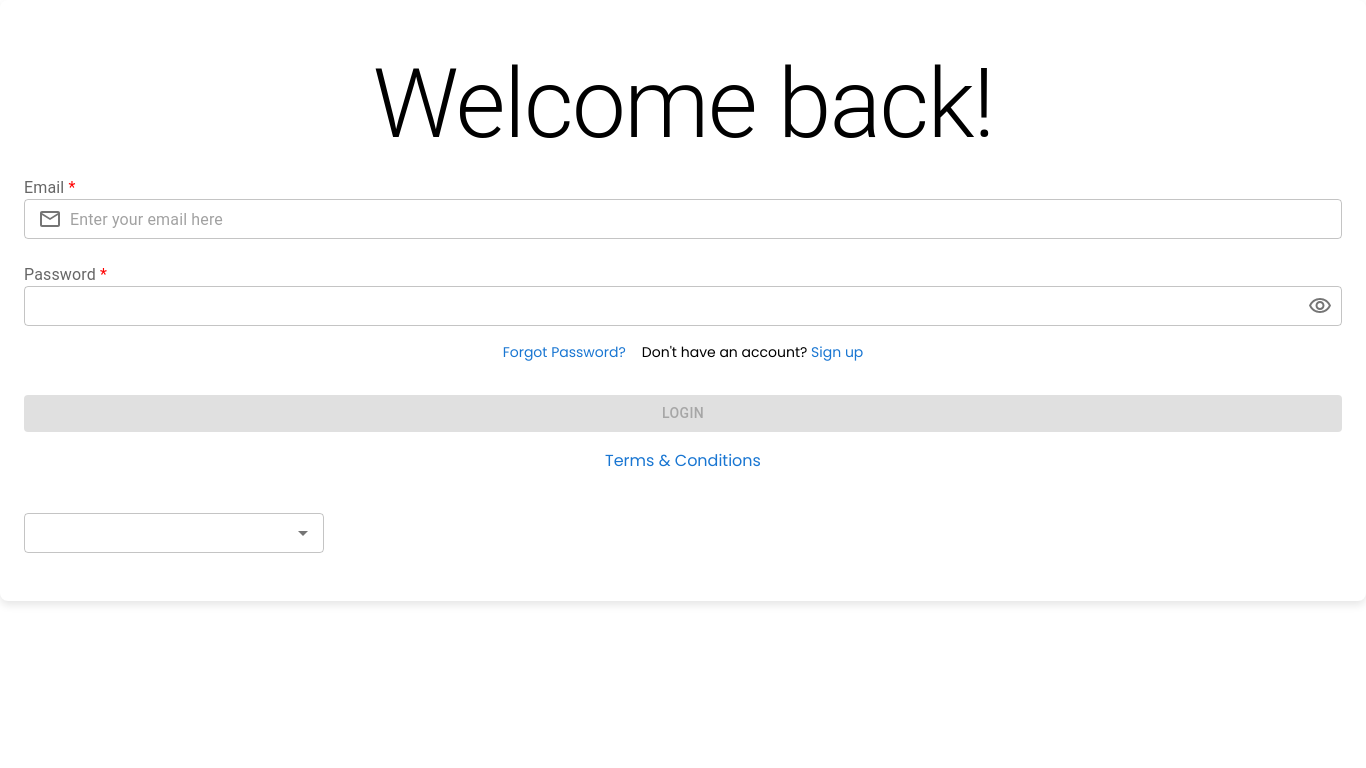
Test case: Login Component › enables login button when email and password are provided
The width and height of the screenshot is (1366, 768).
Expected: the button "Login" is disabled, [24,395,1342,432]
Type "test" into the field with placeholder "Enter your email here".
click(706, 219); type("test")  # box [70,199,1342,239]
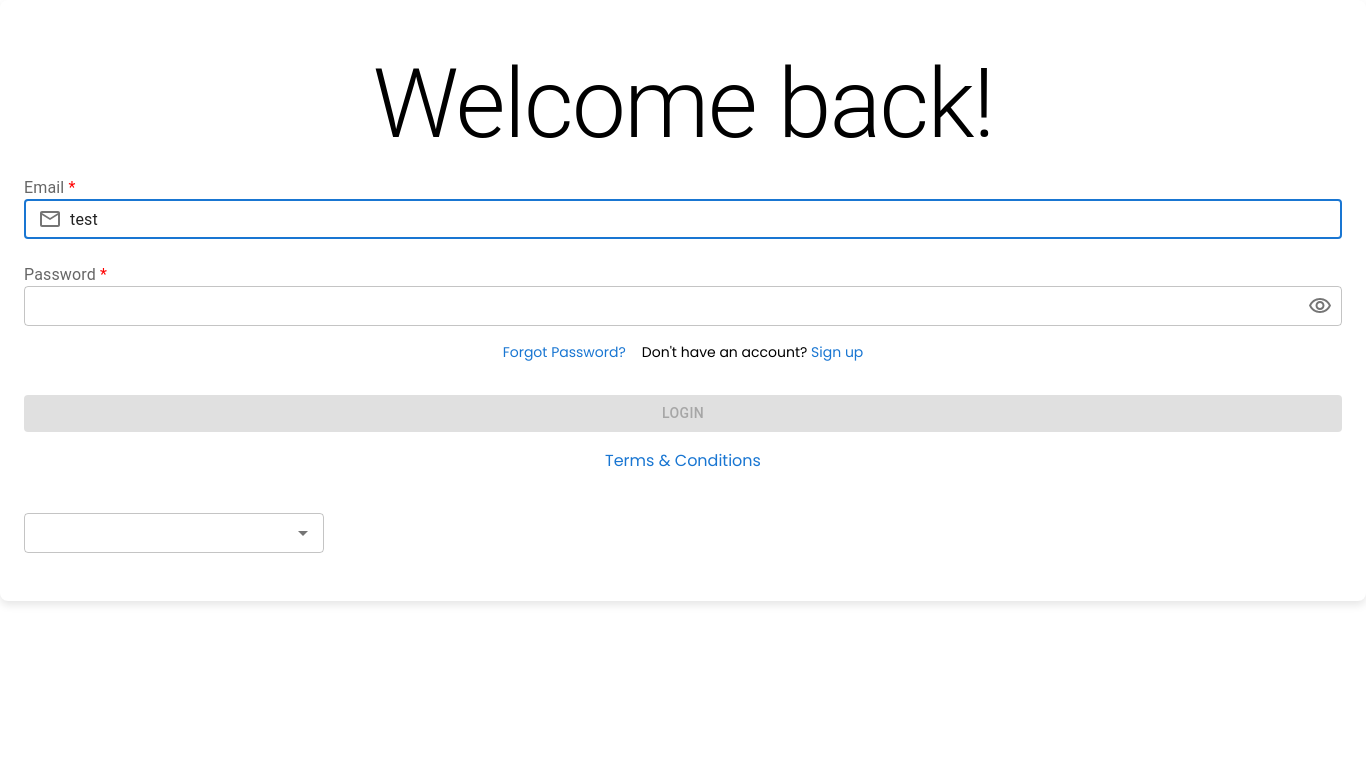
Type "test" into the password field labelled "Password *".
click(658, 306); type("test")  # box [24,286,1292,326]
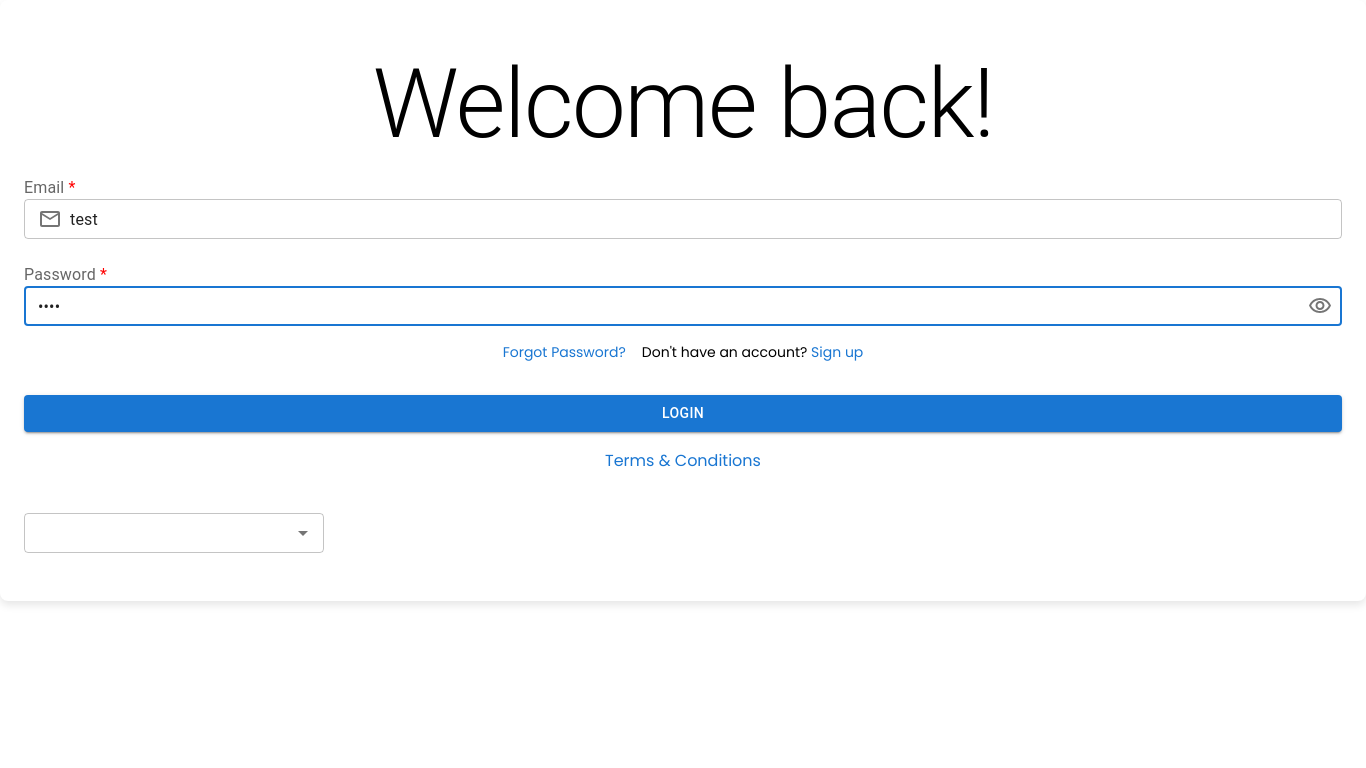
Expected: the button "Login" is enabled, [24,395,1342,432]
